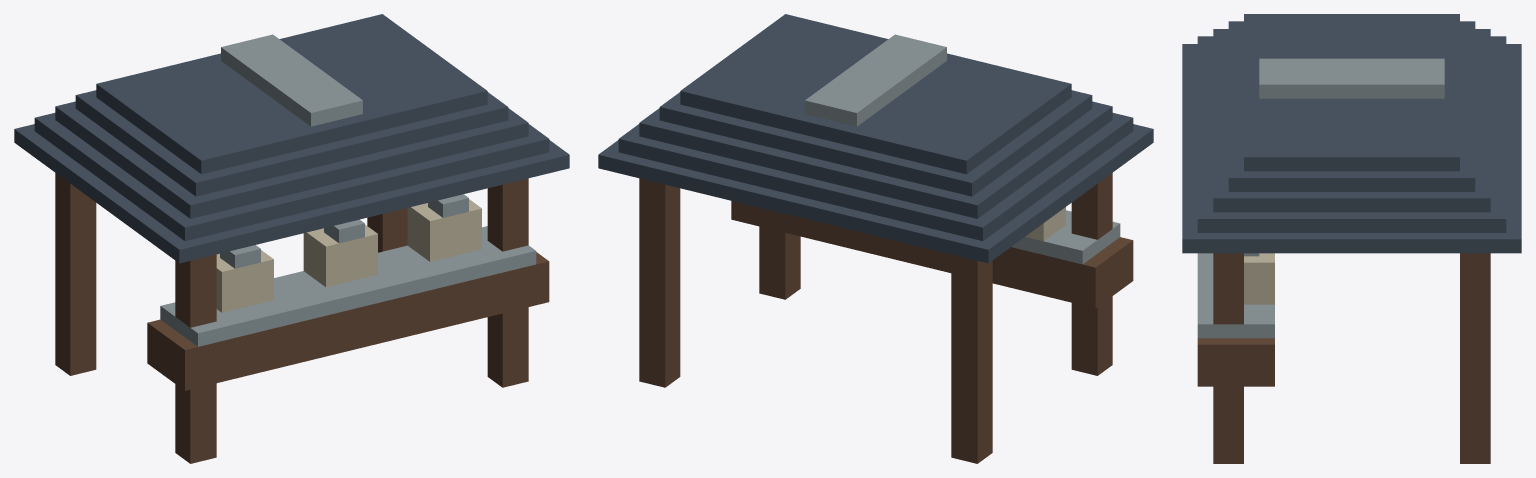
Rendered from market.glb.
The picture shows the model from 3 angles, left to right: view 1: azimuth 30°, elevation 25°; view 2: azimuth 150°, elevation 25°; view 3: azimuth 270°, elevation 25°; orthographic projection. The views are drawn at different scales.
Parts seen in each view (by area): view 1: Shell; view 2: Shell; view 3: Shell.
Boxes of the visible parts, box(x1,y1,x2,y2) form: Shell: box(14, 14, 569, 463); Shell: box(598, 14, 1153, 463); Shell: box(1182, 14, 1521, 463).
Bounding box in the file's own units: 3.75 × 2.75 × 2.75.
